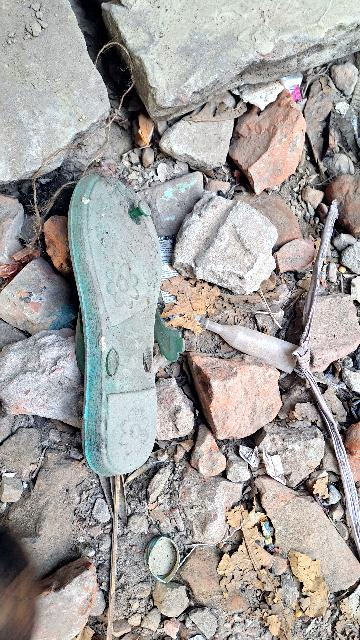sandal: (65, 175, 175, 476)
